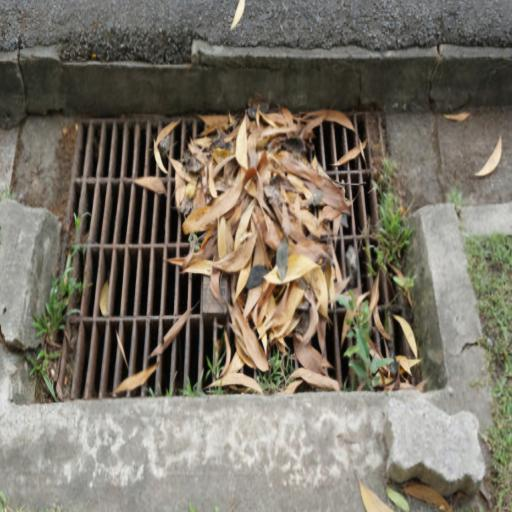debris: (42, 203, 92, 398), (103, 305, 199, 397), (86, 327, 98, 398), (165, 383, 199, 396), (110, 129, 117, 177), (93, 189, 99, 234), (137, 256, 142, 303)
drain: (42, 110, 416, 400)
